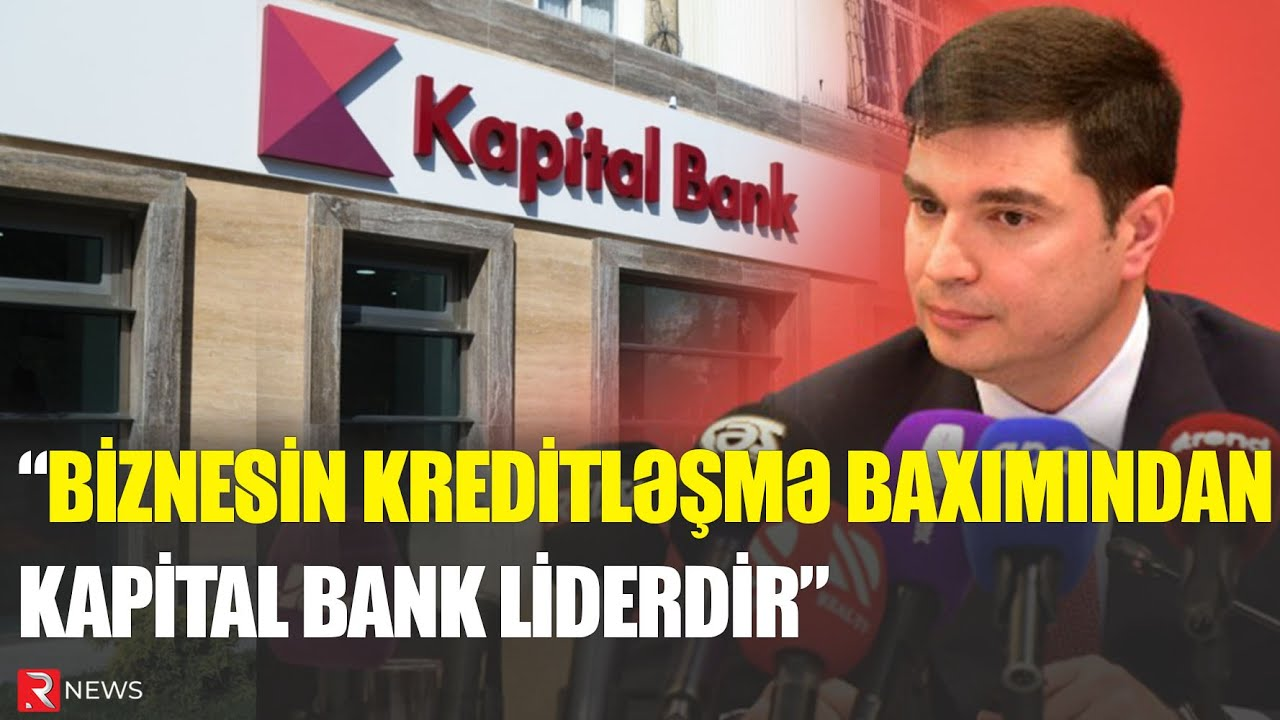Kapital Bank: (254, 1, 400, 180)
